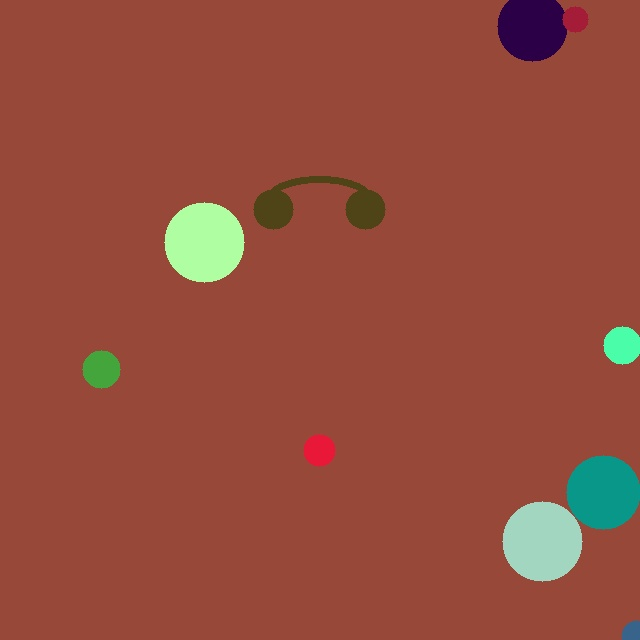over_ear: (249, 158, 389, 233)
